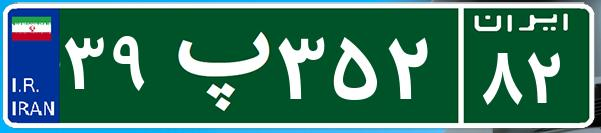2: (385, 28, 445, 110), (525, 38, 570, 115)
3: (273, 28, 330, 110), (57, 26, 110, 107)
5: (330, 28, 385, 110)
8: (475, 38, 525, 113)
9: (110, 28, 158, 105)
پ: (158, 15, 273, 115)
